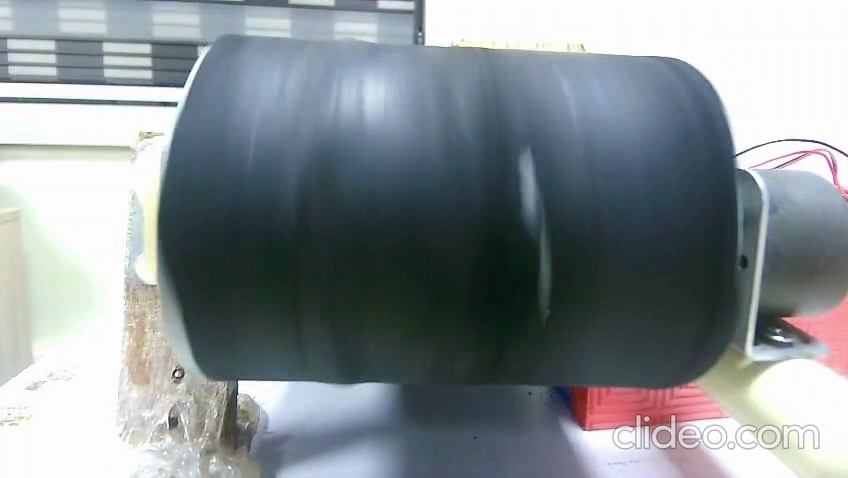tear: (509, 146, 565, 329)
